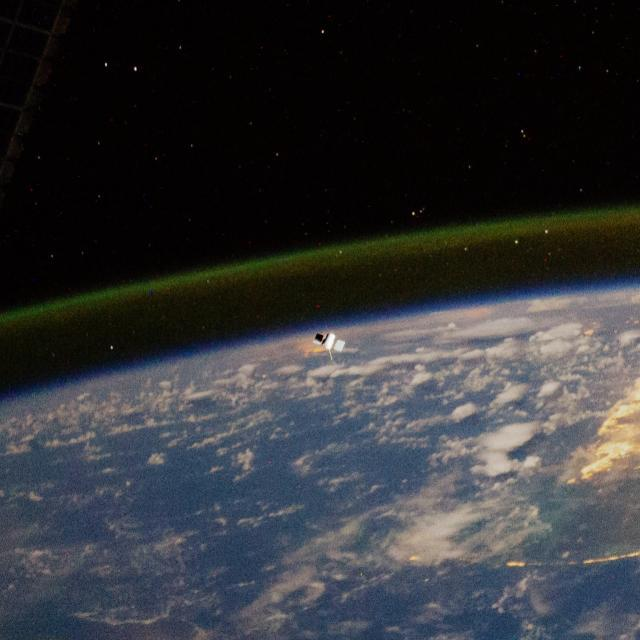satellite: (289, 313, 369, 377)
